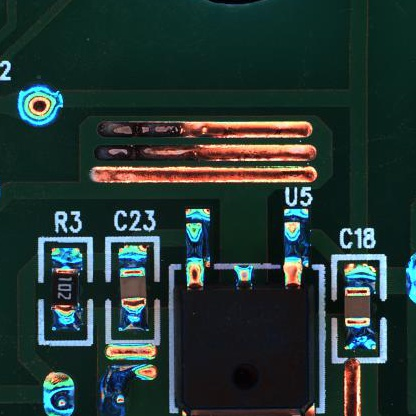spot: (16, 87, 64, 126), (43, 373, 77, 416)
